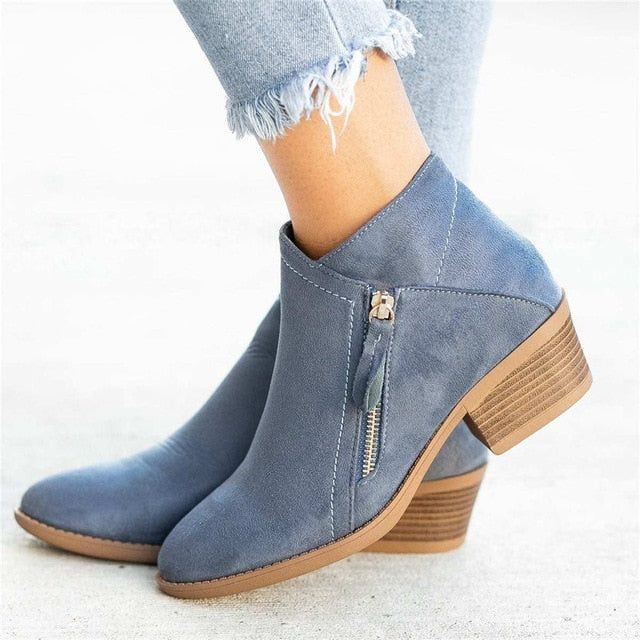gamuza: (22, 149, 564, 582)
